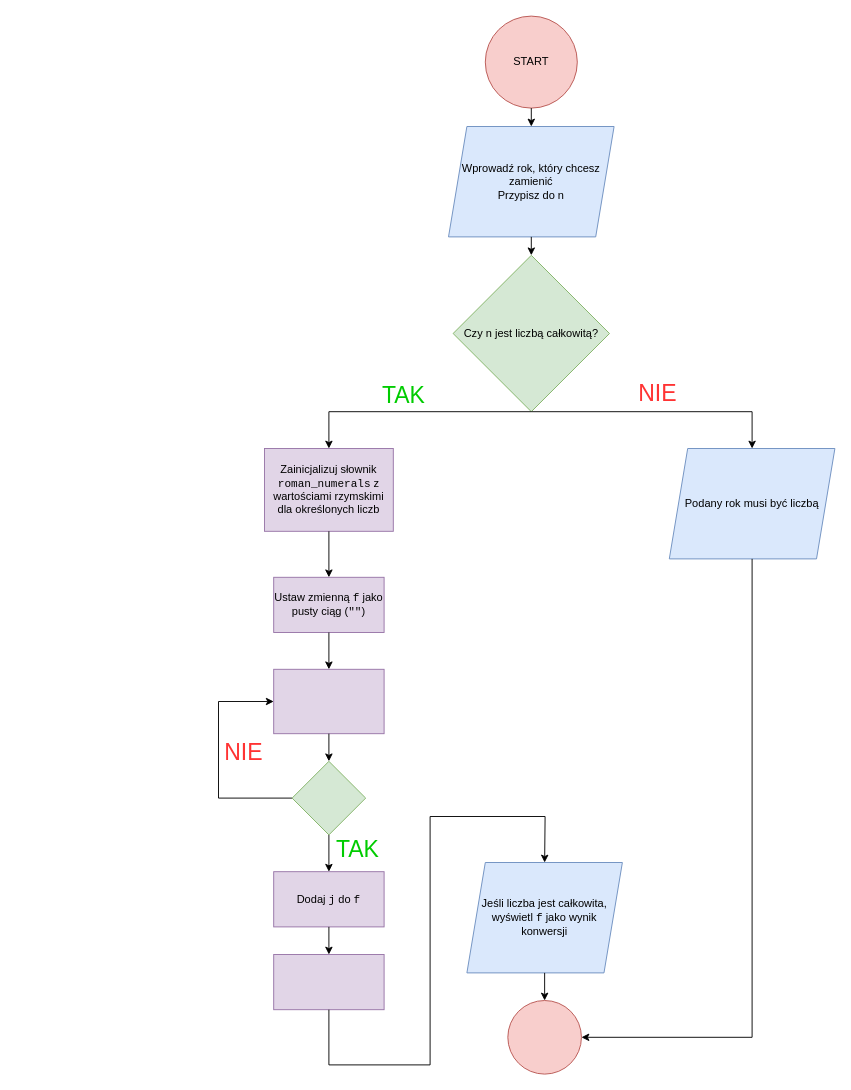
The diagram is 851 pixels wide and 1090 high, and some of its shapes have lost their labels. The centre of each missing label's shape, as x and y in pixels:
Czy n >= i?: pixel 328 797
Odejmij i od n: pixel 328 982
Przeiteruj przez każdy klucz i i wartość j w roman_numerals: pixel 328 701
STOP: pixel 544 1037
